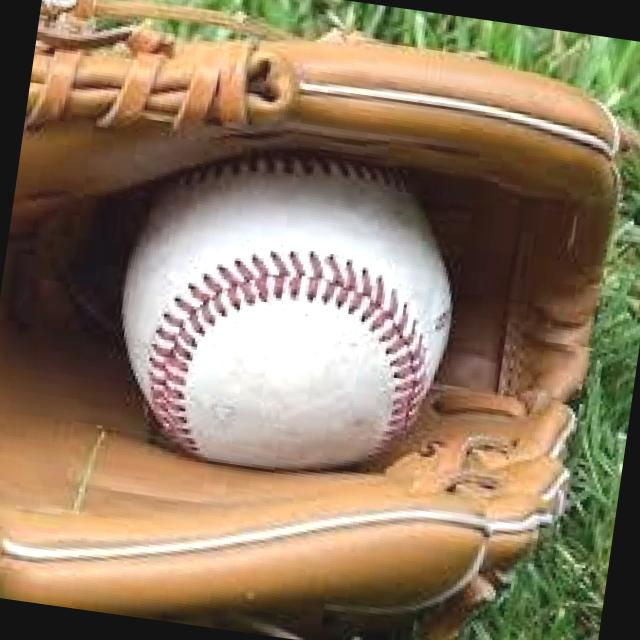ball: (91, 130, 494, 498)
